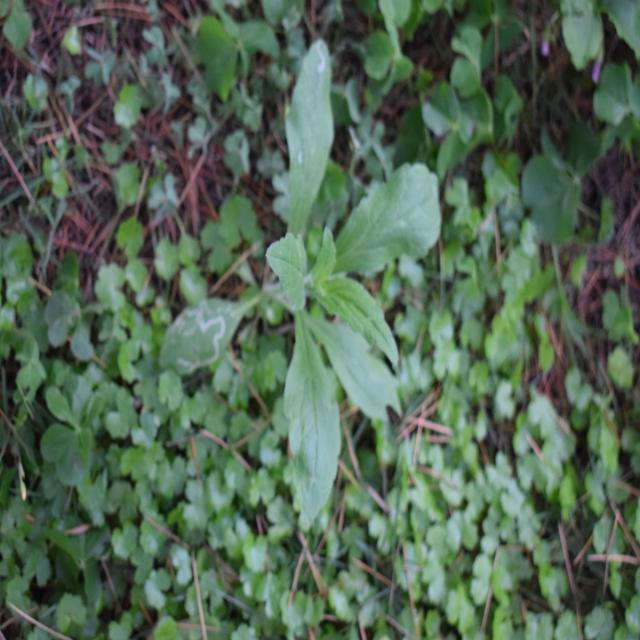horseweed: (244, 56, 430, 483)
